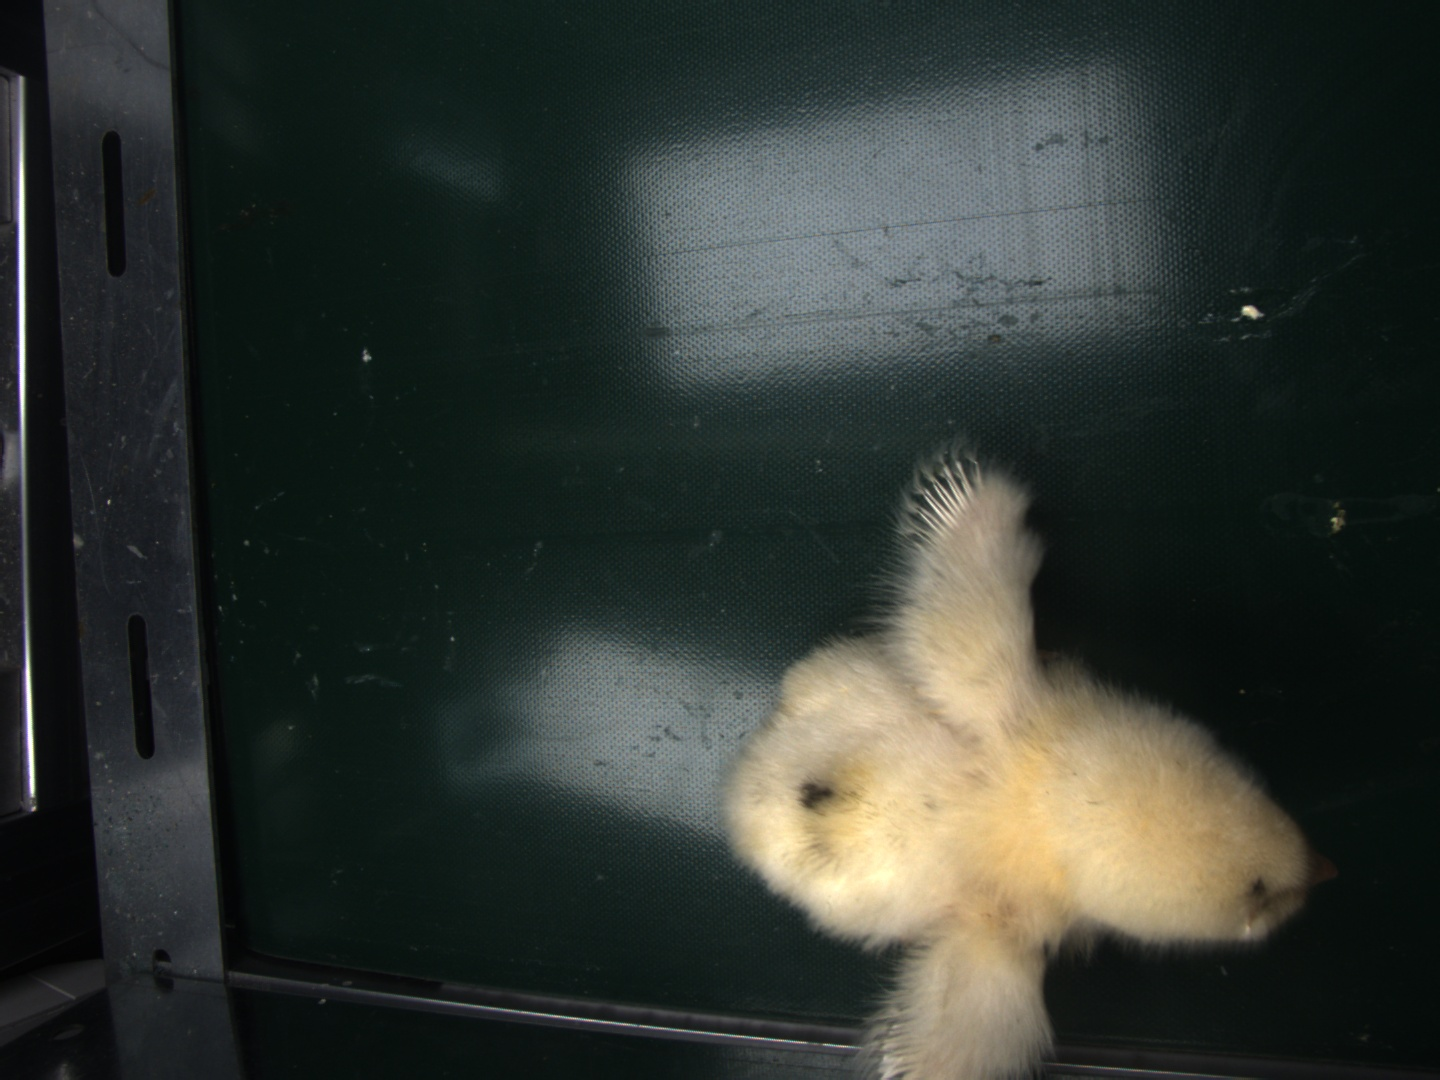male: (910, 461, 982, 547)
